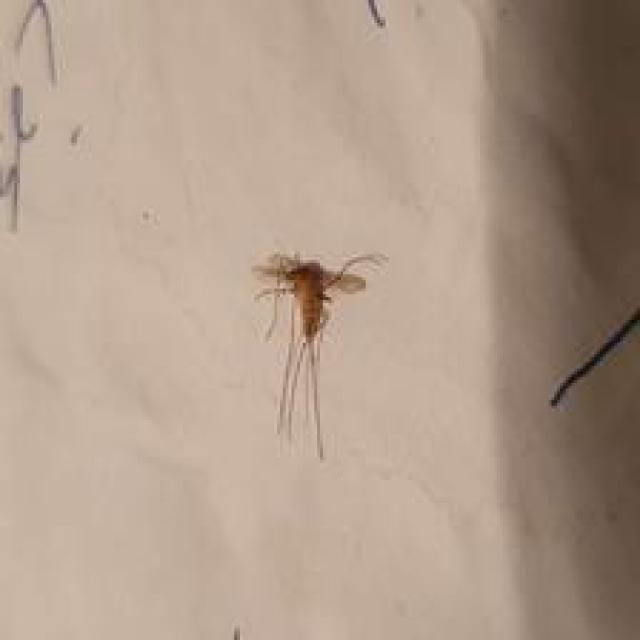Culex: (250, 249, 387, 460)
